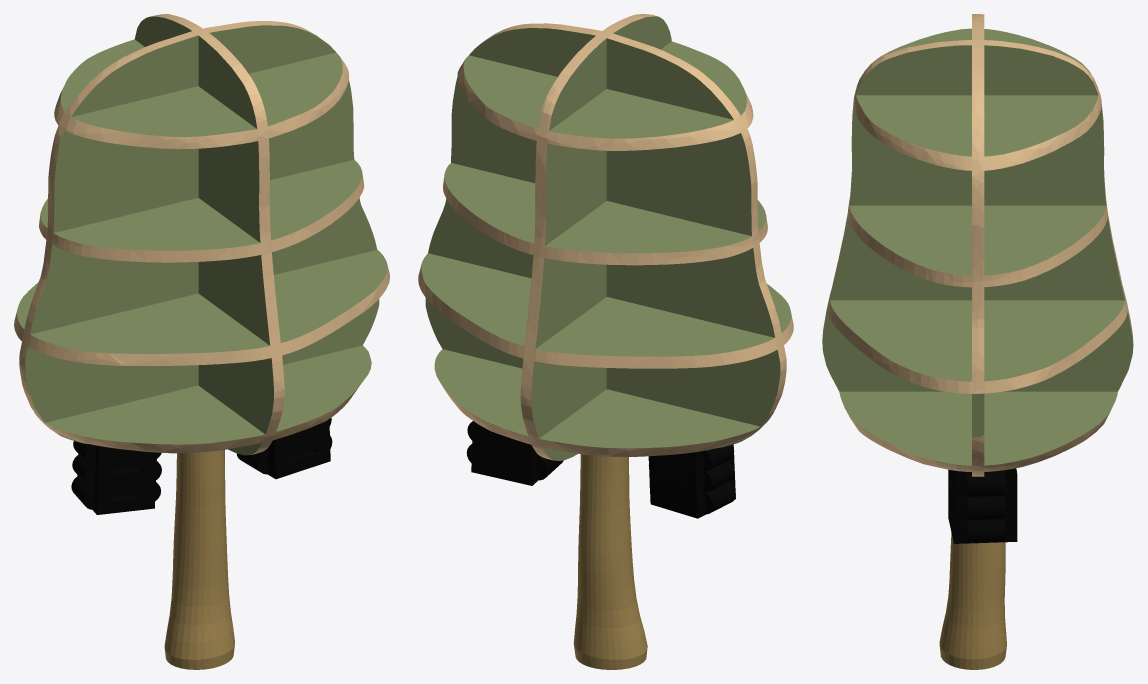
Rendered from BeeTreeModel.fbx.
3 renders of one model, left to right at view 1: azimuth 30°, elevation 25°; view 2: azimuth 150°, elevation 25°; view 3: azimuth 270°, elevation 25°, orthographic.
Parts seen in each view (by area): view 1: BeeTreeModel; view 2: BeeTreeModel; view 3: BeeTreeModel.
Boxes of the visible parts, x1,y1,x2,y2 form: BeeTreeModel: (14,14,389,669); BeeTreeModel: (418,14,793,669); BeeTreeModel: (822,14,1133,669).
Bounding box in the file's own units: 638 × 1065 × 489.
